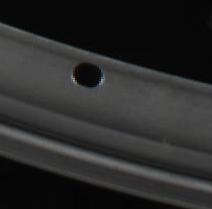holes: (71, 60, 104, 89), (205, 4, 211, 38)
